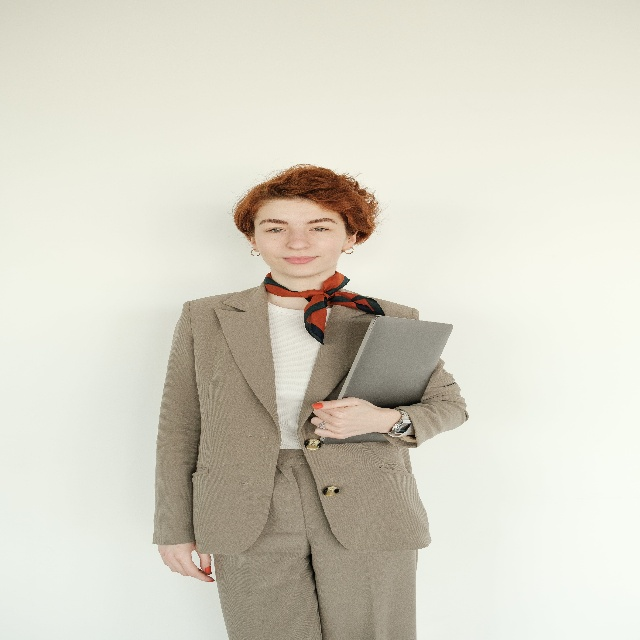Sin_guantes: (310, 399, 392, 446), (156, 539, 212, 587)
